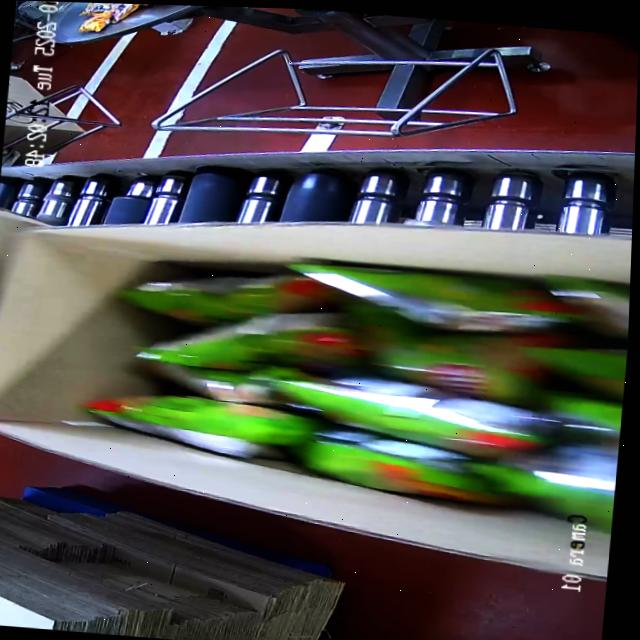YOGURT_HERB: (87, 228, 632, 528)
